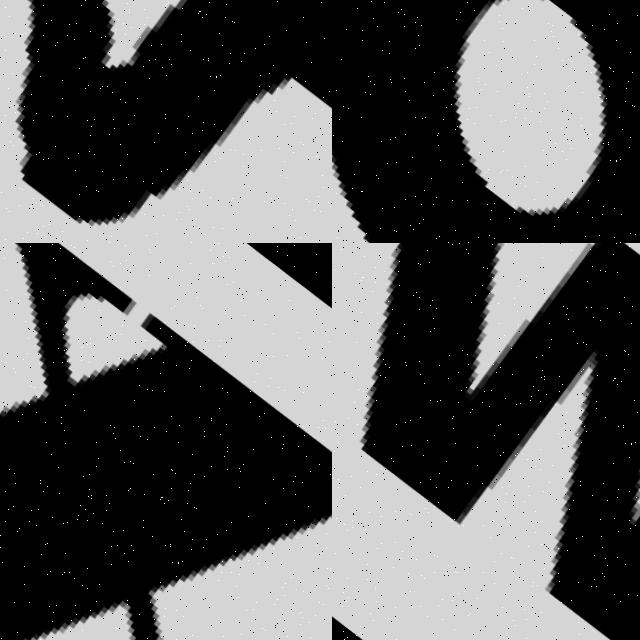O: (332, 0, 640, 243)
V: (0, 0, 332, 243)
W: (332, 243, 640, 640)
X: (0, 243, 332, 640)
